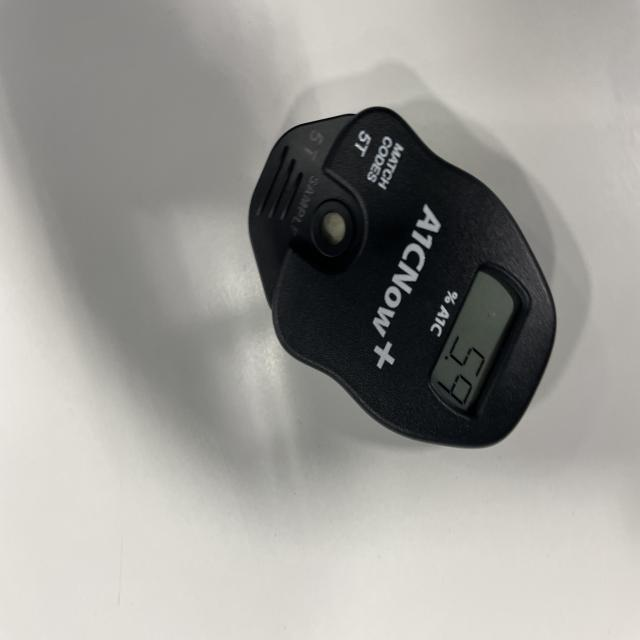hba1c: (248, 106, 559, 452)
